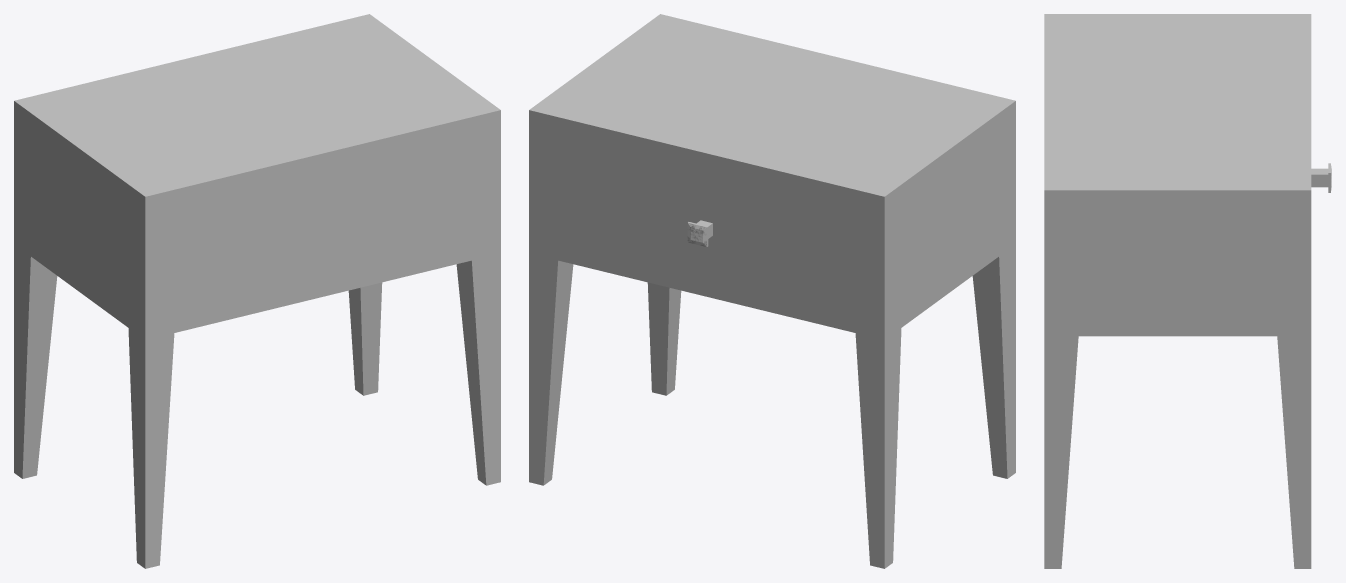
File: reims_ejjeli.fbx
3 renders of one model, left to right at view 1: azimuth 30°, elevation 25°; view 2: azimuth 150°, elevation 25°; view 3: azimuth 270°, elevation 25°, orthographic.
Visible parts, largest first — view 1: Model, Group4, Group1, Group6, Group5; view 2: Model, Group6, Group5, Group4, Group1; view 3: Model, Group5, Group1, Group3.
Part boxes in pixels (<box>): Model: <box>14,14,500,339</box>; Group4: <box>128,328,174,568</box>; Group1: <box>456,253,500,485</box>; Group6: <box>14,244,57,478</box>; Group5: <box>348,282,382,395</box>; Model: <box>529,14,1015,339</box>; Group6: <box>855,328,901,568</box>; Group5: <box>529,253,573,485</box>; Group4: <box>972,244,1015,478</box>; Group1: <box>647,282,681,395</box>; Model: <box>1044,14,1311,336</box>; Group5: <box>1277,336,1311,568</box>; Group1: <box>1044,336,1078,568</box>; Group3: <box>1311,163,1331,192</box>.
Size of the model in its own units: 610 by 610 by 419.
